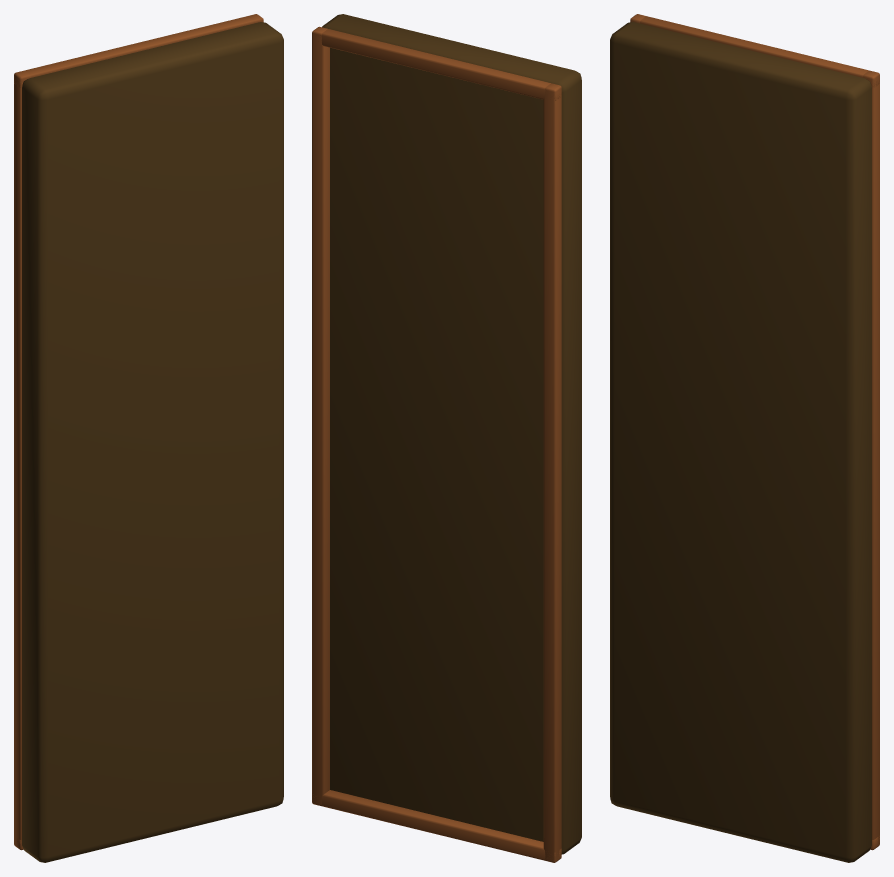
The model's file is SM_Wall1x1.fbx.
The picture shows the model from 3 angles, left to right: view 1: azimuth 30°, elevation 25°; view 2: azimuth 150°, elevation 25°; view 3: azimuth 330°, elevation 25°; orthographic projection.
Visible parts, largest first — view 1: Wall1x1; view 2: Wall1x1; view 3: Wall1x1.
Boxes of the visible parts, x1,y1,x2,y2 form: Wall1x1: (14, 14, 283, 862); Wall1x1: (312, 14, 581, 862); Wall1x1: (610, 14, 879, 862).
Size of the model in its own units: 19.9 by 100 by 300.
